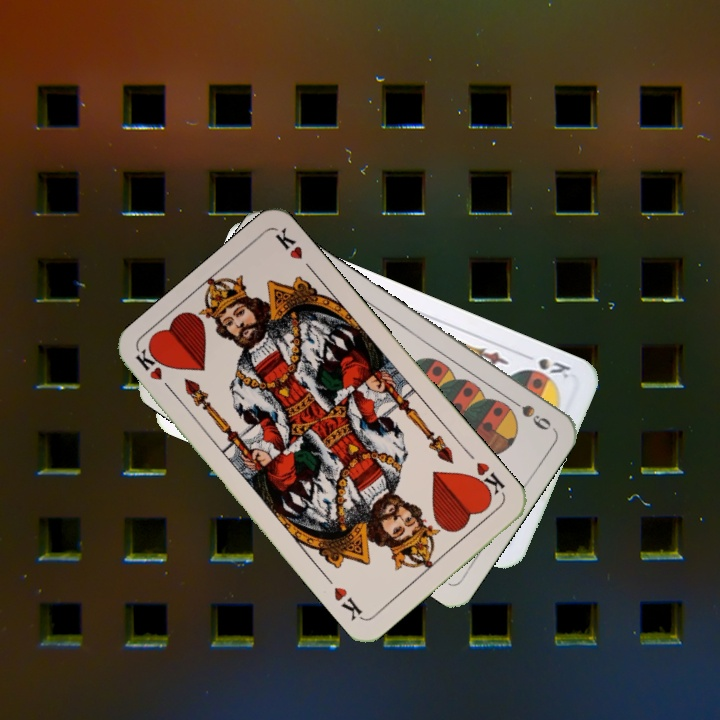HK: (132, 345, 178, 398), (468, 458, 508, 502)
S9: (503, 392, 554, 434)
SK: (534, 354, 574, 382)
